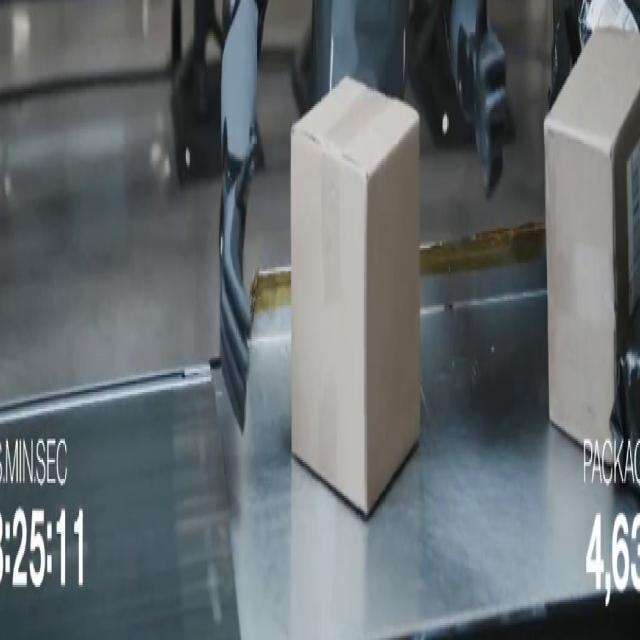package: (291, 79, 420, 514), (544, 30, 639, 451), (611, 306, 639, 493)
